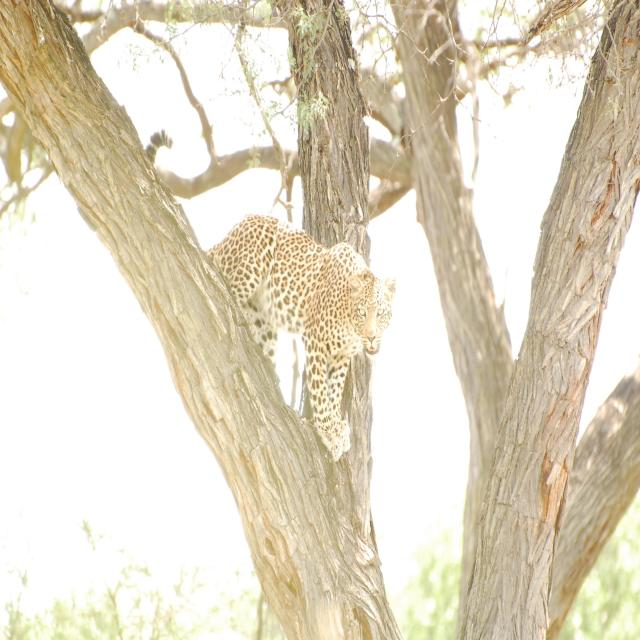Leopard: (174, 174, 392, 497)
